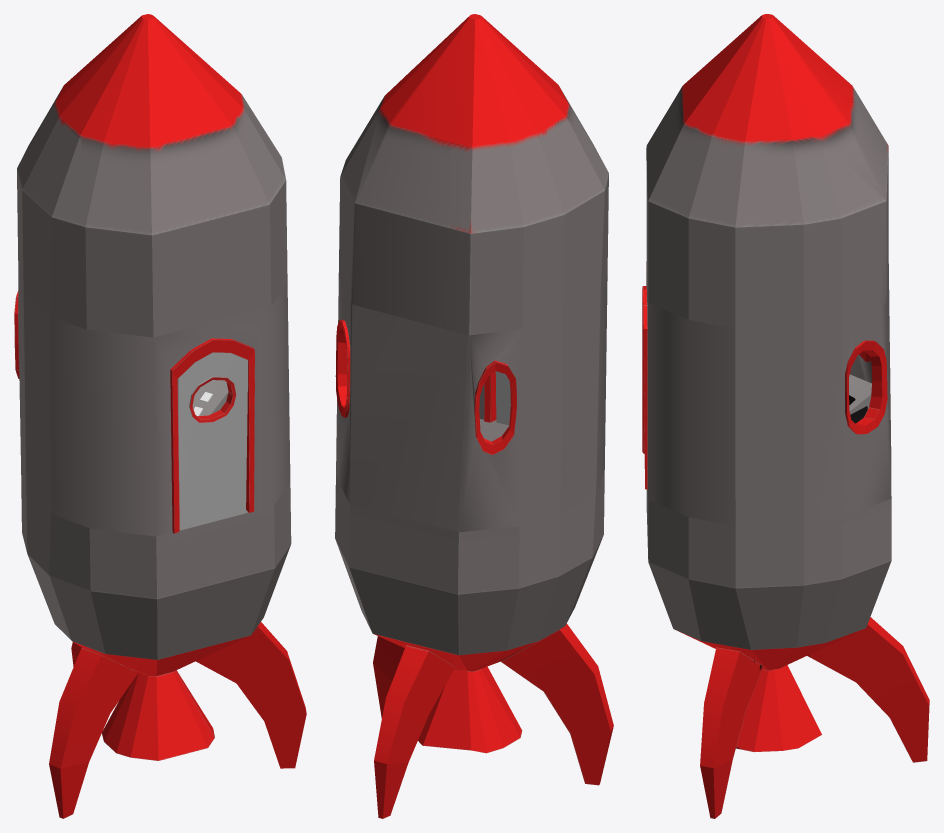
The model's file is Rocket.fbx.
3 renders of one model, left to right at view 1: azimuth 30°, elevation 25°; view 2: azimuth 150°, elevation 25°; view 3: azimuth 270°, elevation 25°, orthographic.
Visible parts, largest first — view 1: walls, door1, desk; view 2: walls, door1; view 3: walls, desk.
Part boxes in pixels (x1,y1,x2,y2): walls: [14, 14, 306, 818]; door1: [177, 352, 247, 530]; desk: [192, 380, 228, 415]; walls: [335, 14, 613, 818]; door1: [495, 371, 510, 425]; walls: [642, 14, 929, 818]; desk: [849, 374, 871, 414].
Bounding box in the file's own units: 360 × 1056 × 368.
Materials: 4 (4 with a texture image).
